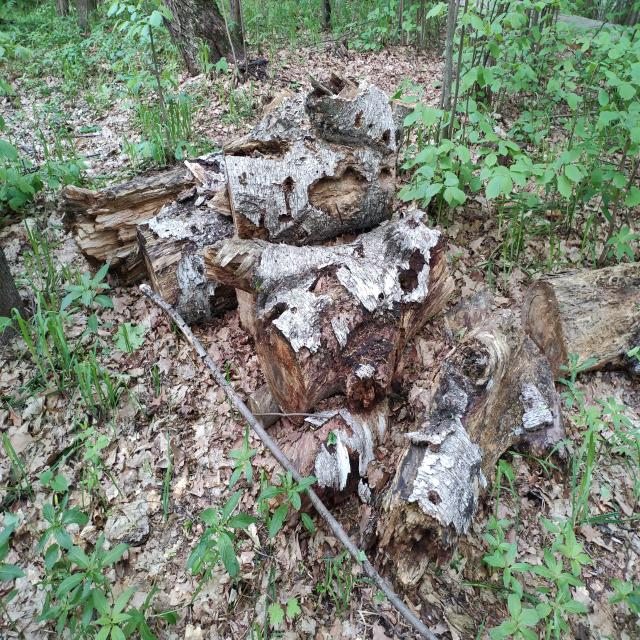restos de madeira: (378, 308, 566, 591), (258, 219, 456, 421), (220, 81, 403, 244), (63, 158, 195, 294), (520, 257, 640, 380), (139, 188, 238, 330)
